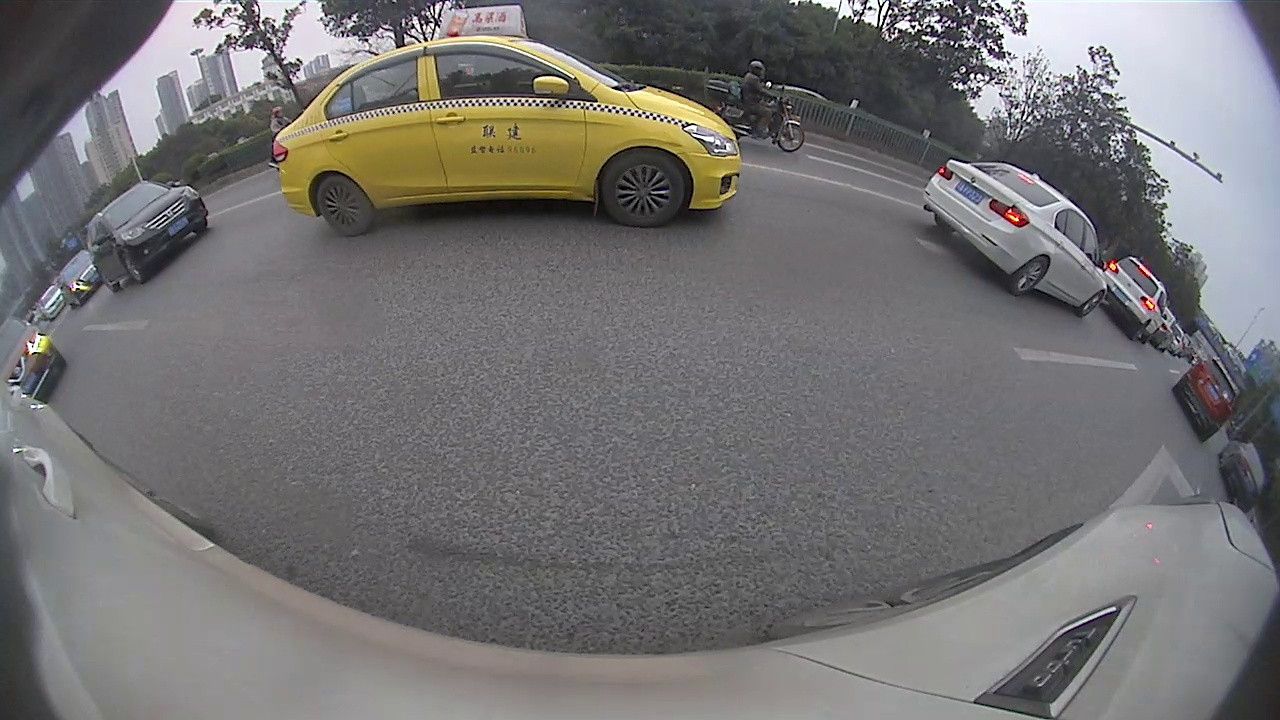car: (273, 7, 739, 238), (924, 157, 1108, 319), (85, 184, 210, 293), (1, 316, 67, 404), (1174, 357, 1238, 441), (1110, 255, 1168, 343), (1221, 444, 1265, 511), (59, 252, 101, 311)
front: (600, 148, 685, 226), (1079, 285, 1105, 320), (122, 249, 147, 284)
rear: (319, 176, 375, 239), (1009, 257, 1052, 297)
rider: (705, 58, 806, 154)
